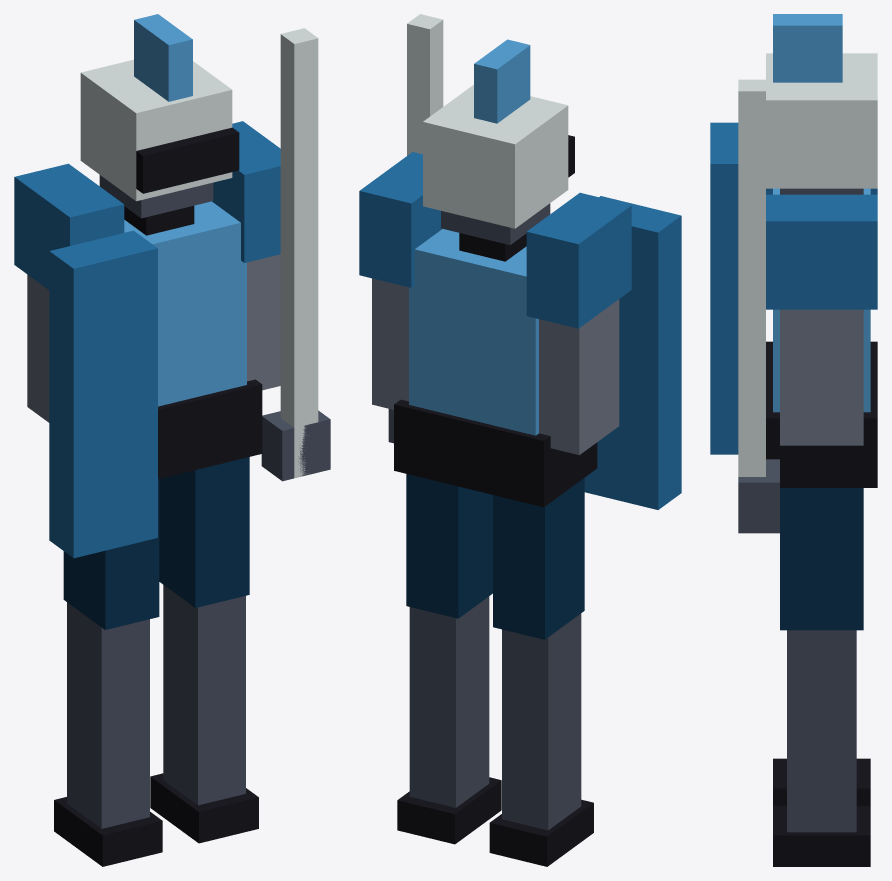
Rendered from knight.gltf.
The picture shows the model from 3 angles, left to right: view 1: azimuth 30°, elevation 25°; view 2: azimuth 150°, elevation 25°; view 3: azimuth 270°, elevation 25°; orthographic projection. The views are drawn at different scales.
Parts seen in each view (by area): view 1: 11_shield, 02_left_shin, 03_right_shin, 10_tabard, 12_sword_blade, 17_helm, 05_right_thigh, 13_left_pauldron, 06_belt, 04_left_thigh, 14_right_pauldron, 18_visor (+8 smaller); view 2: 10_tabard, 11_shield, 17_helm, 02_left_shin, 03_right_shin, 06_belt, 04_left_thigh, 13_left_pauldron, 05_right_thigh, 08_left_arm, 14_right_pauldron, 09_right_arm (+6 smaller); view 3: 03_right_shin, 17_helm, 14_right_pauldron, 05_right_thigh, 09_right_arm, 12_sword_blade, 11_shield, 06_belt, 19_crest, 01_right_boot, 07_sword_hilt, 10_tabard (+2 smaller).
Part boxes in pixels (x1=…): 11_shield: x1=49, y1=230, x2=157, y2=558; 02_left_shin: x1=67, y1=602, x2=149, y2=828; 03_right_shin: x1=163, y1=585, x2=245, y2=805; 10_tabard: x1=124, y1=201, x2=246, y2=406; 12_sword_blade: x1=280, y1=28, x2=318, y2=478; 17_helm: x1=80, y1=59, x2=232, y2=201; 05_right_thigh: x1=159, y1=457, x2=249, y2=607; 13_left_pauldron: x1=14, y1=163, x2=124, y2=289; 06_belt: x1=158, y1=379, x2=262, y2=478; 04_left_thigh: x1=63, y1=479, x2=159, y2=629; 14_right_pauldron: x1=212, y1=121, x2=280, y2=262; 18_visor: x1=136, y1=127, x2=239, y2=193; 10_tabard: x1=409, y1=229, x2=538, y2=435; 11_shield: x1=584, y1=196, x2=681, y2=509; 17_helm: x1=423, y1=84, x2=568, y2=228; 02_left_shin: x1=502, y1=613, x2=581, y2=830; 03_right_shin: x1=409, y1=596, x2=489, y2=807; 06_belt: x1=394, y1=399, x2=597, y2=507; 04_left_thigh: x1=493, y1=478, x2=584, y2=639; 13_left_pauldron: x1=526, y1=192, x2=631, y2=328; 05_right_thigh: x1=406, y1=474, x2=492, y2=618; 08_left_arm: x1=539, y1=299, x2=619, y2=455; 14_right_pauldron: x1=359, y1=152, x2=442, y2=287; 09_right_arm: x1=372, y1=278, x2=408, y2=409; 03_right_shin: x1=787, y1=630, x2=856, y2=832; 17_helm: x1=766, y1=53, x2=877, y2=188; 14_right_pauldron: x1=766, y1=194, x2=877, y2=309; 05_right_thigh: x1=780, y1=488, x2=863, y2=630; 09_right_arm: x1=780, y1=309, x2=863, y2=445; 12_sword_blade: x1=738, y1=79, x2=765, y2=476; 11_shield: x1=710, y1=122, x2=738, y2=454; 06_belt: x1=766, y1=341, x2=877, y2=487; 19_crest: x1=773, y1=14, x2=842, y2=82; 01_right_boot: x1=773, y1=806, x2=870, y2=866; 07_sword_hilt: x1=738, y1=459, x2=779, y2=533; 10_tabard: x1=773, y1=188, x2=870, y2=412.
Bounding box in the file's own units: 0.7031 × 2 × 0.375.
